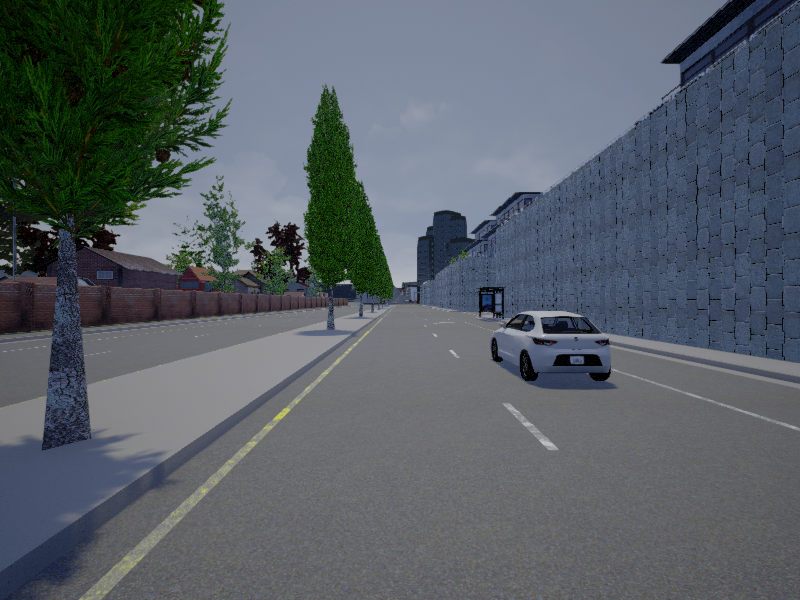Benign: (489, 311, 614, 383)
